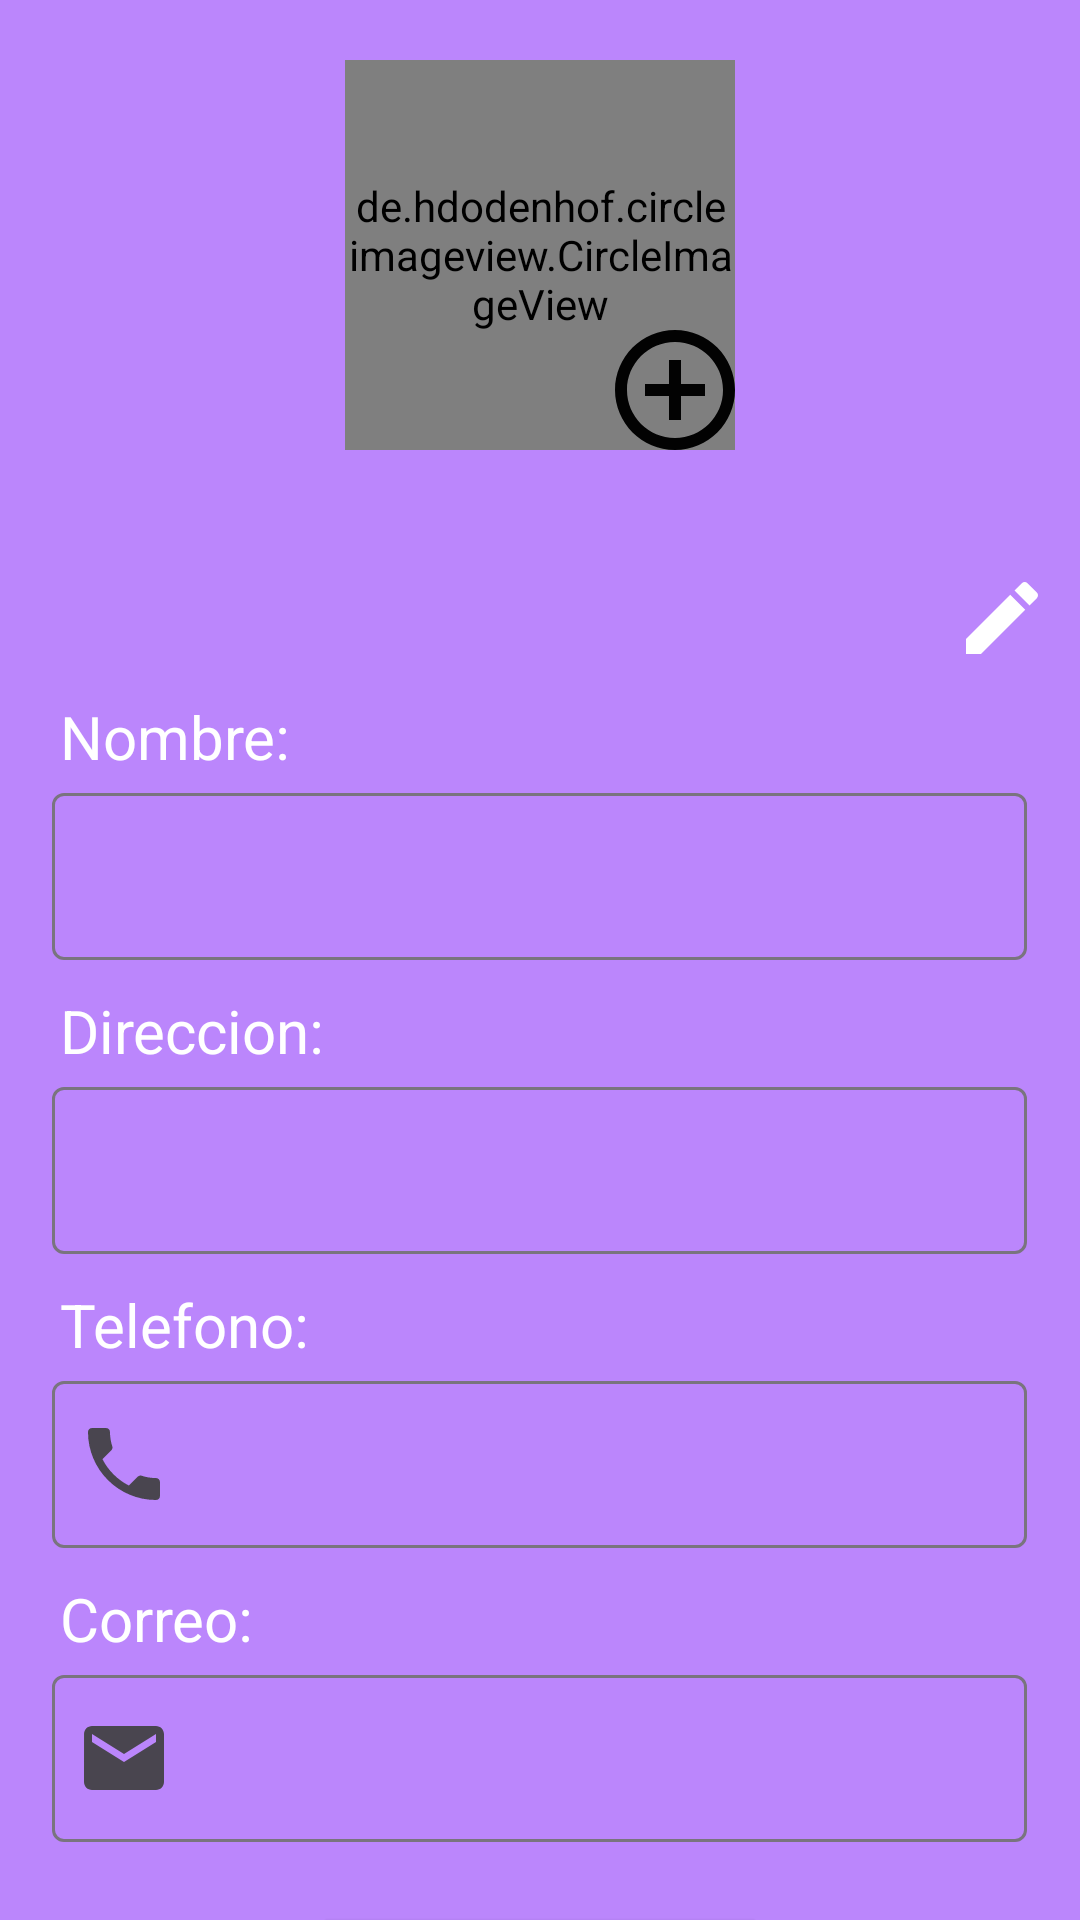

Where to tap for icons on this 1080 x 1920 app screen, as [x,y]:
Botón de acción: [675,390]
edit: [1002,618]
